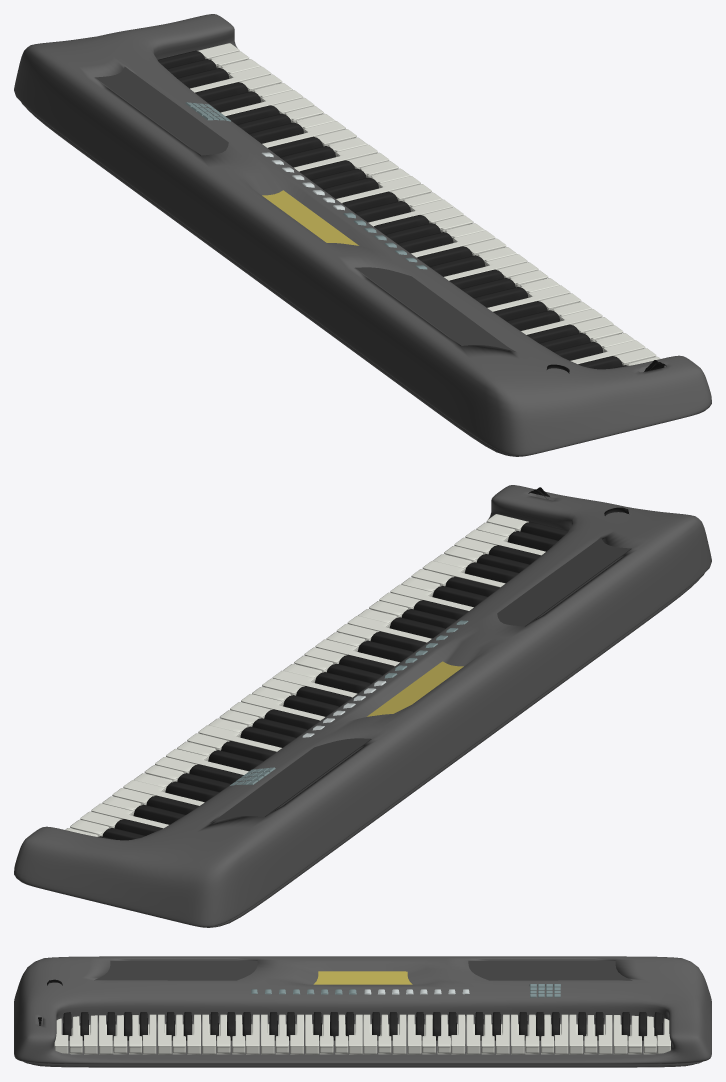
Rendered from UDTarget10.fbx.
The picture shows the model from 3 angles, top to bottom: view 1: azimuth 30°, elevation 25°; view 2: azimuth 150°, elevation 25°; view 3: azimuth 270°, elevation 25°; orthographic projection. The views are drawn at different scales.
Visible parts, largest first — view 1: Plane, Plane.077_Plane.083, Plane.078_Plane.084, Plane.075_Plane.081, Plane.047_Plane.053; view 2: Plane, Plane.078_Plane.084, Plane.077_Plane.083, Plane.075_Plane.081, Plane.033_Plane.039, Plane.040_Plane.046; view 3: Plane, Plane.078_Plane.084, Plane.077_Plane.083, Plane.075_Plane.081, Plane.045_Plane.051, Plane.069_Plane.075, Plane.044_Plane.050, Plane.056_Plane.062, Plane.049_Plane.055, Plane.012_Plane.014, Plane.072_Plane.078, Plane.041_Plane.047 (+67 smaller).
Boxes of the visible parts, x1,y1,x2,y2 form: Plane: (14,14,711,456); Plane.077_Plane.083: (355,267,513,351); Plane.078_Plane.084: (95,66,228,155); Plane.075_Plane.081: (262,190,358,245); Plane.047_Plane.053: (355,201,410,222); Plane: (14,485,711,927); Plane.078_Plane.084: (212,738,370,822); Plane.077_Plane.083: (497,537,630,626); Plane.075_Plane.081: (367,661,463,716); Plane.033_Plane.039: (357,640,413,662); Plane.040_Plane.046: (283,695,338,716); Plane: (14,956,711,1067); Plane.078_Plane.084: (468,961,631,980); Plane.077_Plane.083: (94,961,257,980); Plane.075_Plane.081: (313,971,412,984); Plane.045_Plane.051: (392,1014,406,1054); Plane.069_Plane.075: (598,1015,612,1054); Plane.044_Plane.050: (407,1014,421,1054); Plane.056_Plane.062: (554,1014,568,1054); Plane.049_Plane.055: (466,1014,480,1054); Plane.012_Plane.014: (142,1014,156,1054); Plane.072_Plane.078: (569,1014,583,1054); Plane.041_Plane.047: (451,1014,465,1054).
Bounding box in the file's own units: 1.47 × 0.4659 × 6.05.
